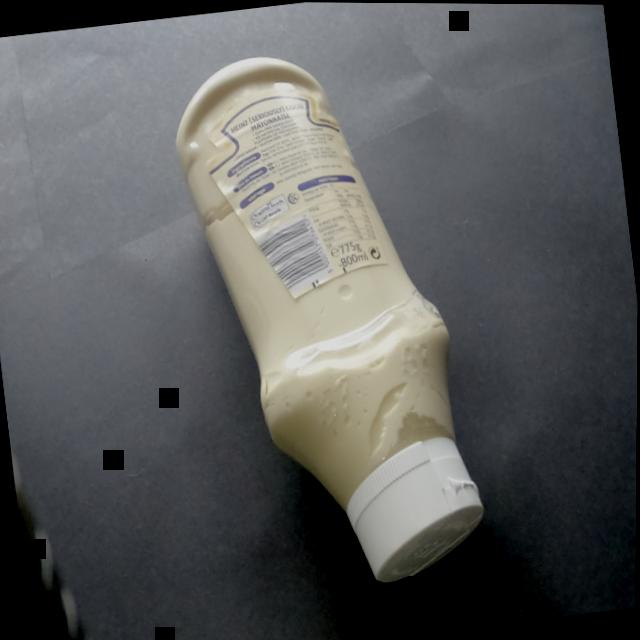Mayonnaise: (146, 22, 506, 622)
